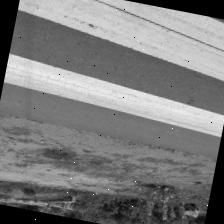crossing: (1, 54, 224, 138), (66, 0, 224, 57)
